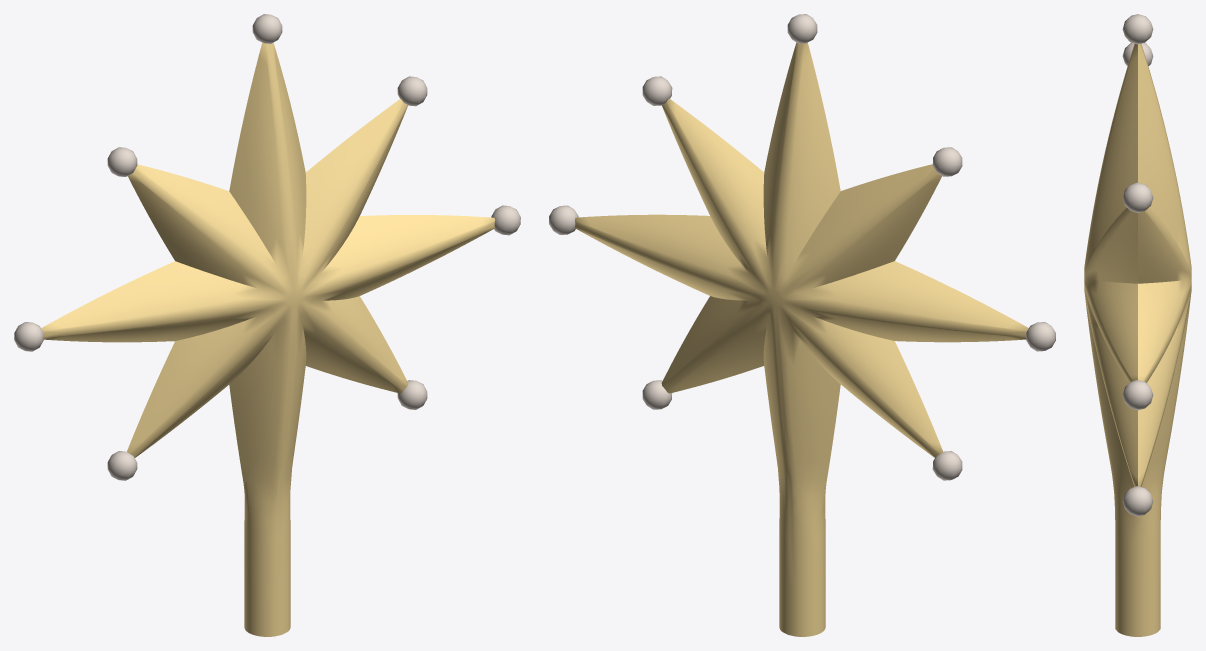
Rendered from gold_glossy_pearls.glb.
The picture shows the model from 3 angles, left to right: view 1: azimuth 30°, elevation 25°; view 2: azimuth 150°, elevation 25°; view 3: azimuth 270°, elevation 25°; orthographic projection.
Visible parts, largest first — view 1: big_star; view 2: big_star; view 3: big_star.
Part boxes in pixels (x1,y1,x2,y2): big_star: [14, 14, 520, 636]; big_star: [549, 14, 1055, 636]; big_star: [1084, 14, 1191, 636].
Bounding box in the file's own units: 0.378 × 0.4385 × 0.07.
